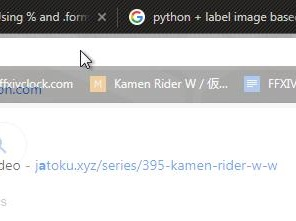cursor: (78, 47, 94, 72)
